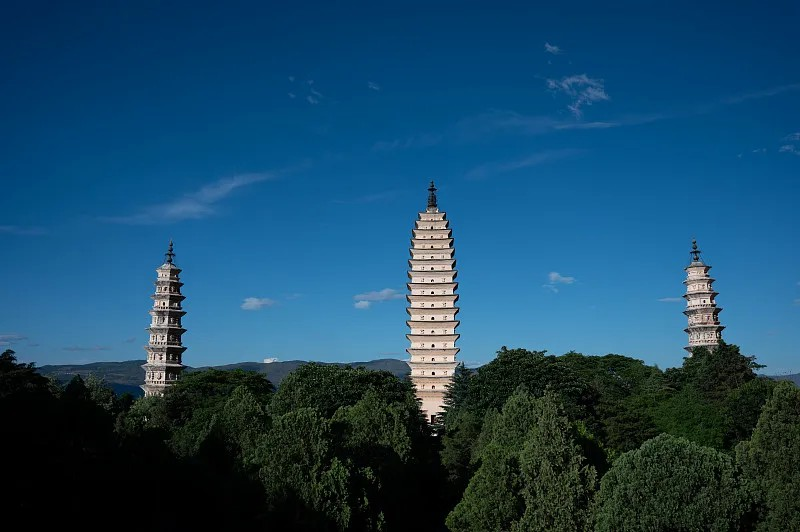ThreePagoda: (405, 182, 460, 426)
